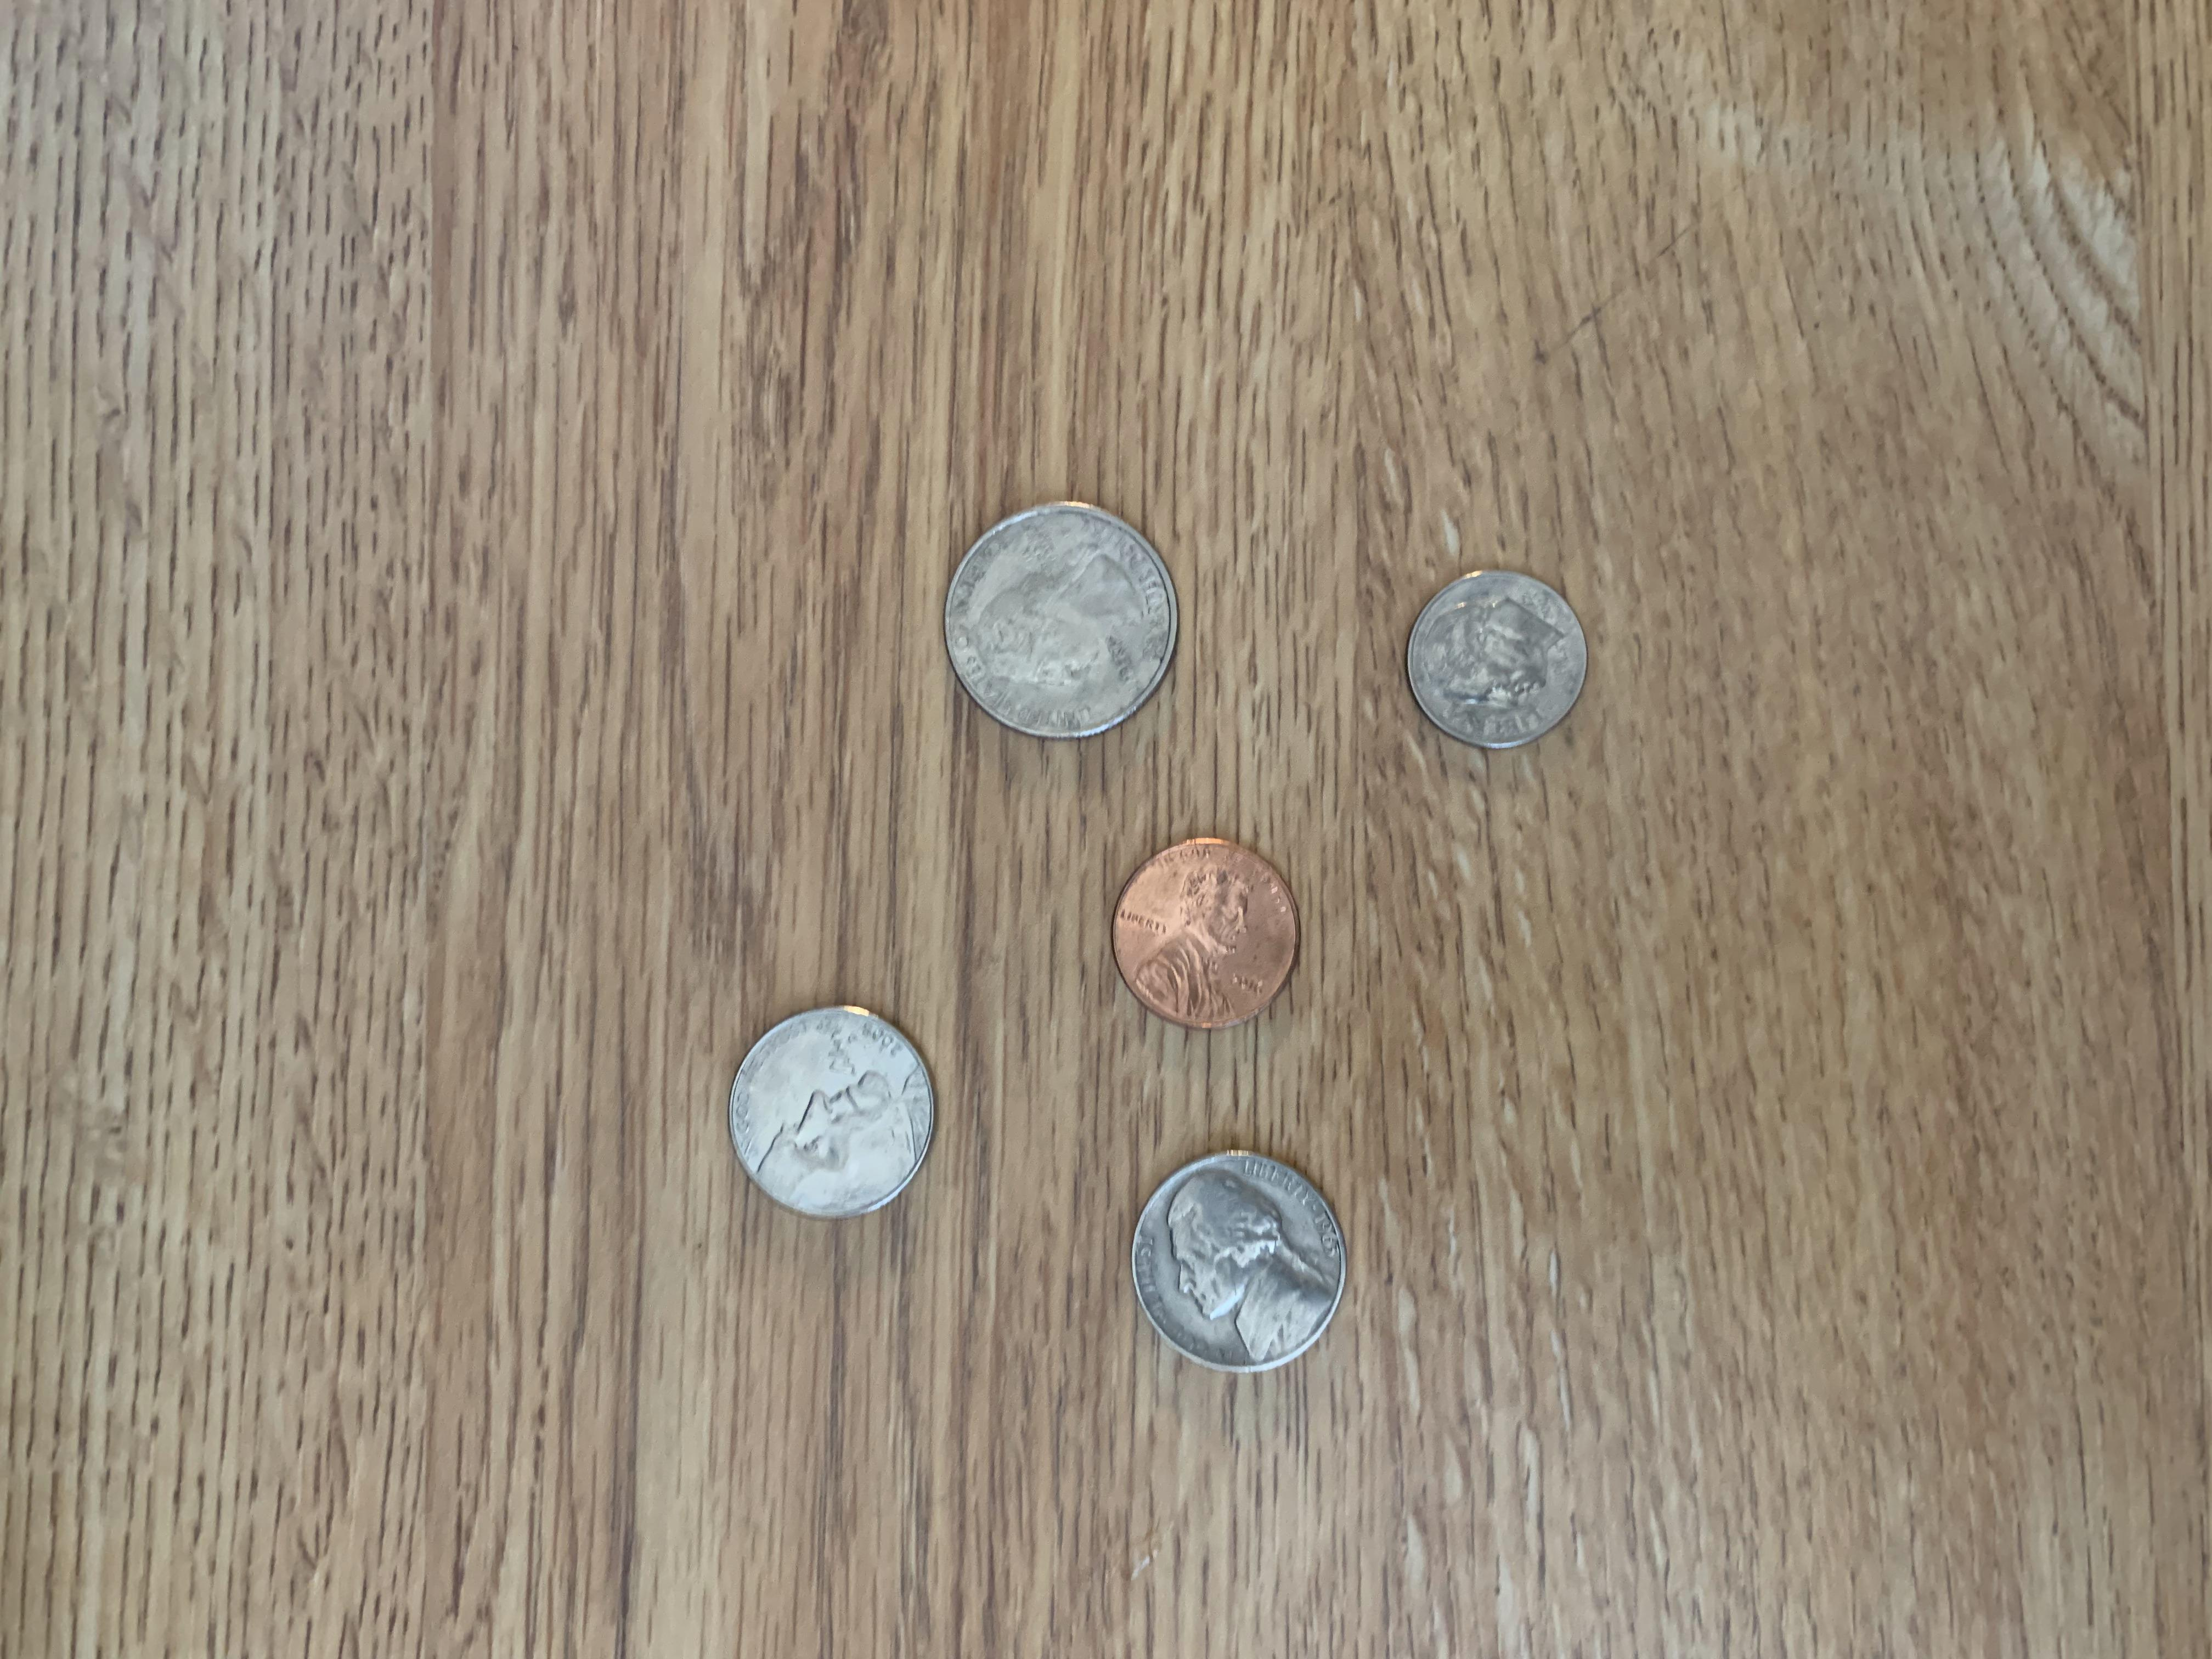Dime: (1399, 561, 1592, 762)
Nickel: (1118, 1143, 1355, 1385), (718, 997, 942, 1225)
Penny: (1103, 831, 1306, 1035)
Quarter: (934, 495, 1183, 749)
